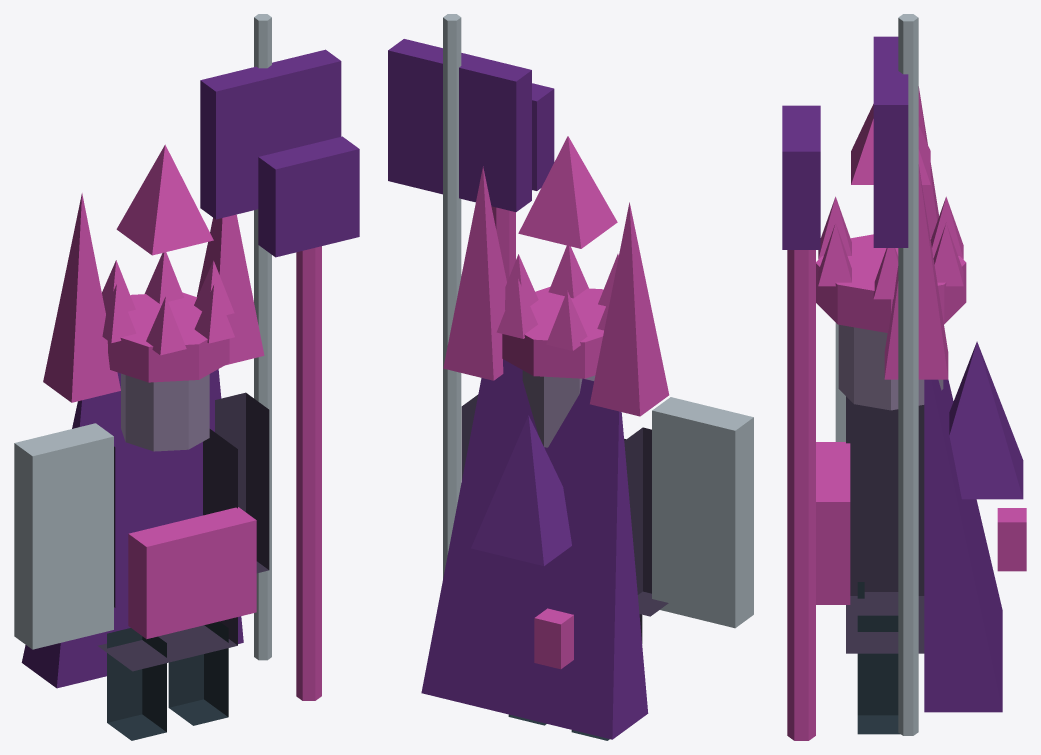
The model's file is healer.obj.
3 renders of one model, left to right at view 1: azimuth 30°, elevation 25°; view 2: azimuth 150°, elevation 25°; view 3: azimuth 270°, elevation 25°, orthographic. The views are drawn at different scales.
Parts seen in each view (by area): view 1: hero; view 2: hero; view 3: hero.
Boxes of the visible parts, x1,y1,x2,y2 form: hero: (14,14,359,740); hero: (388,14,753,740); hero: (782,14,1026,740).
Bounding box in the file's own units: 1.32 × 2.59 × 0.765.
